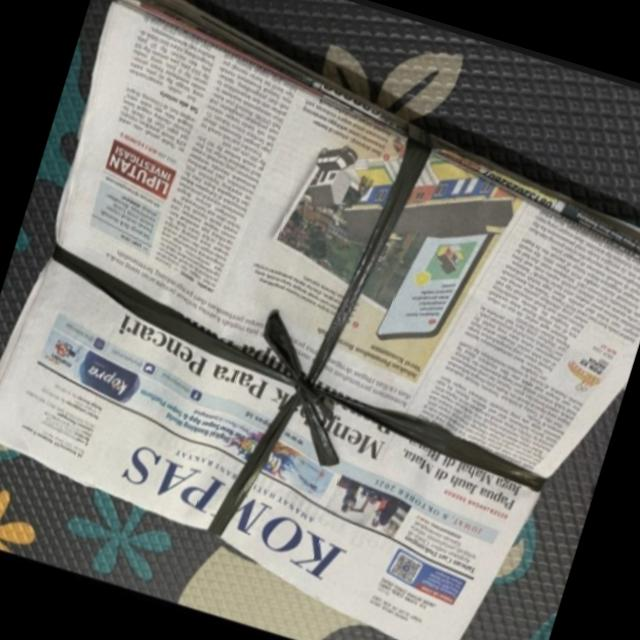Koran: (0, 0, 640, 640), (314, 138, 361, 182)
